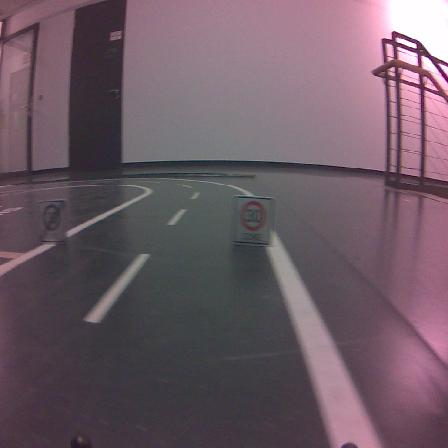30_ZONE_BEGIN: (231, 195, 274, 245)
30_ZONE_END: (37, 199, 66, 242)
